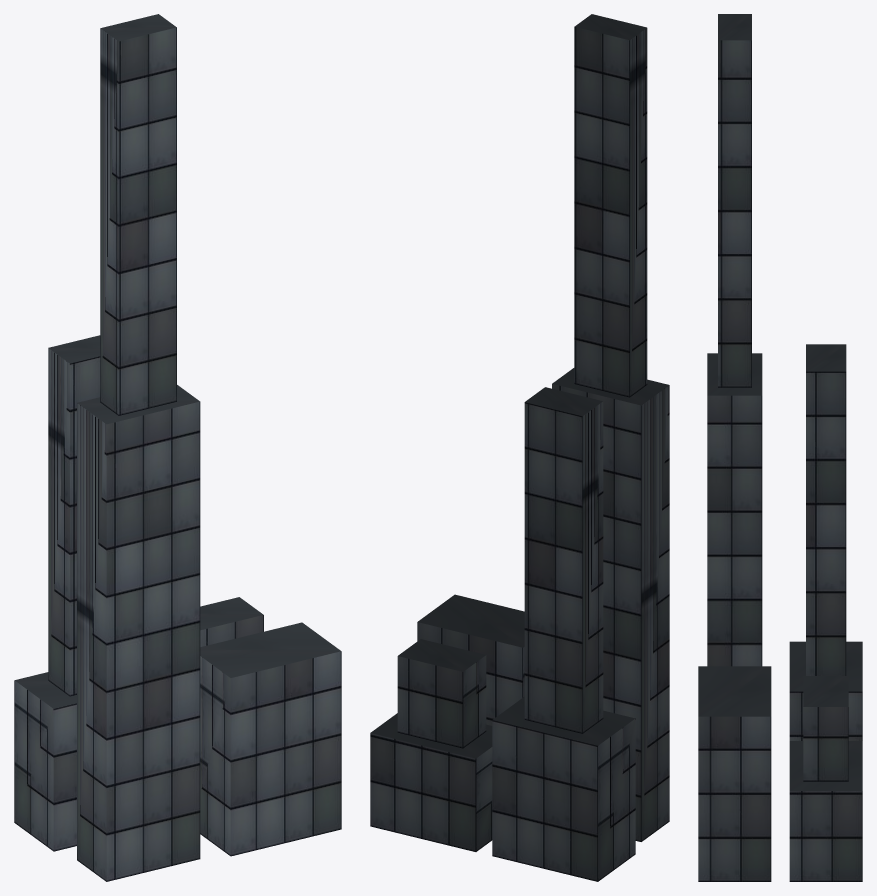
The model's file is city_block_12345_6_29.glb.
3 views of the same model, side by side, from view 1: azimuth 30°, elevation 25°; view 2: azimuth 150°, elevation 25°; view 3: azimuth 270°, elevation 25° (orthographic). The views are drawn at different scales.
Visible parts, largest first — view 1: block_29; view 2: block_29; view 3: block_29.
Part boxes in pixels (left/top/right/bottom): block_29: left=14, top=14, right=341, bottom=881; block_29: left=370, top=14, right=669, bottom=881; block_29: left=698, top=14, right=862, bottom=881.
Size of the model in its own units: 4.2 by 14 by 2.7.
4 materials, 4 textured.
